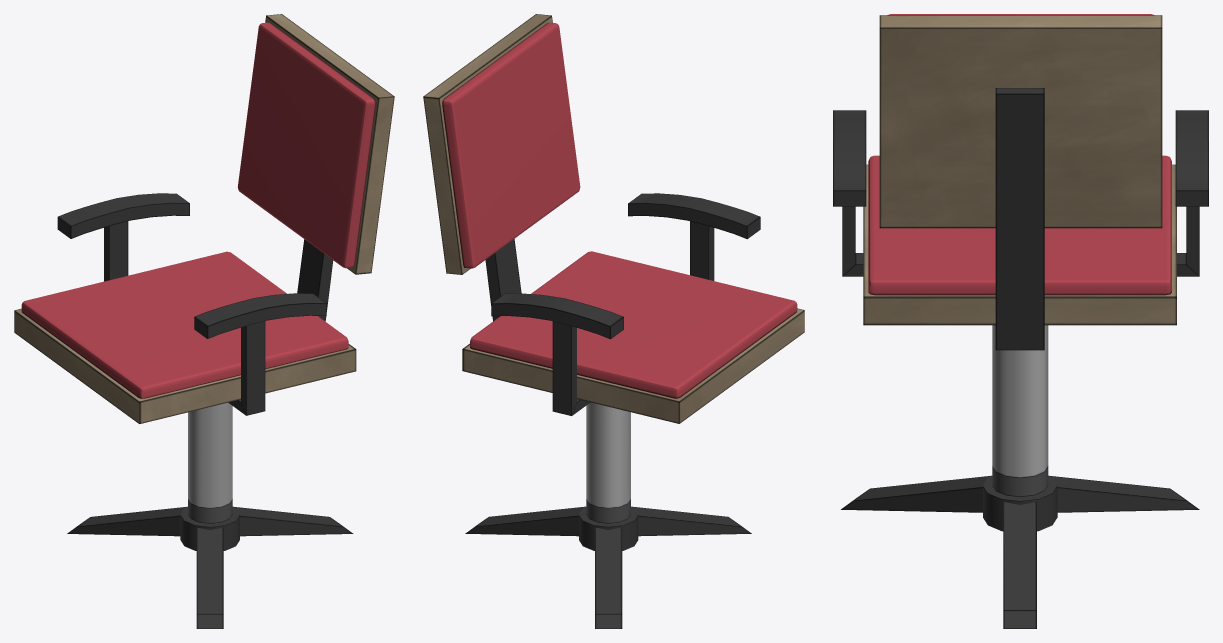
Rendered from chair2.fbx.
The picture shows the model from 3 angles, left to right: view 1: azimuth 30°, elevation 25°; view 2: azimuth 150°, elevation 25°; view 3: azimuth 270°, elevation 25°; orthographic projection. The views are drawn at different scales.
Visible parts, largest first — view 1: polySurface1324; view 2: polySurface1324; view 3: polySurface1324.
Part boxes in pixels (x1,y1,x2,y2): polySurface1324: [14, 14, 394, 628]; polySurface1324: [423, 14, 804, 628]; polySurface1324: [833, 14, 1208, 628].
Size of the model in its own units: 0.8011 by 1.35 by 0.7703.
